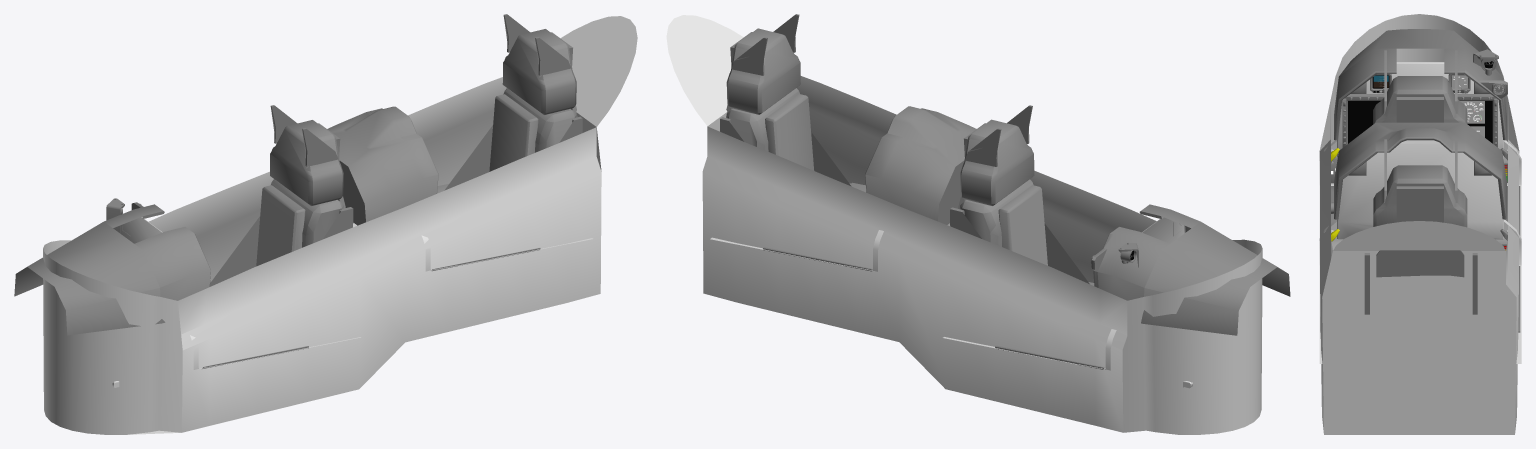
3 renders of one model, left to right at view 1: azimuth 30°, elevation 25°; view 2: azimuth 150°, elevation 25°; view 3: azimuth 270°, elevation 25°, orthographic. The views are drawn at different scales.
Visible parts, largest first — view 1: Cockpit, Seats, FrontHub, BackHub, FPanel; view 2: Cockpit, Seats, FrontHub, BackHub, FPanel; view 3: Cockpit, Seats, BPanel, FrontHub, BackHub, FPanel, background (×2), wavefront obj (×2), Placeholder (×2), engine.glass, case.
Part boxes in pixels (box(x1,y1,x2,y2)): Cockpit: box(43, 16, 637, 434); Seats: box(210, 14, 582, 286); FrontHub: box(14, 202, 210, 335); BackHub: box(327, 106, 438, 225); FPanel: box(120, 217, 360, 369); Cockpit: box(666, 15, 1262, 434); Seats: box(720, 14, 1089, 283); FrontHub: box(1091, 204, 1290, 335); BackHub: box(865, 106, 976, 224); FPanel: box(943, 217, 1185, 370); Cockpit: box(1319, 14, 1519, 434); Seats: box(1364, 50, 1477, 314); BPanel: box(1319, 140, 1521, 363); FrontHub: box(1334, 29, 1507, 140); BackHub: box(1334, 122, 1506, 219); FPanel: box(1319, 62, 1521, 238); background (×2): box(1348, 101, 1492, 143); wavefront obj (×2): box(1342, 94, 1497, 147); Placeholder (×2): box(1348, 82, 1492, 175); engine.glass: box(1460, 101, 1484, 123); case: box(1473, 49, 1498, 75).
Size of the model in its own units: 3.11 by 1.41 by 0.8219.
71 materials, 20 textured.
